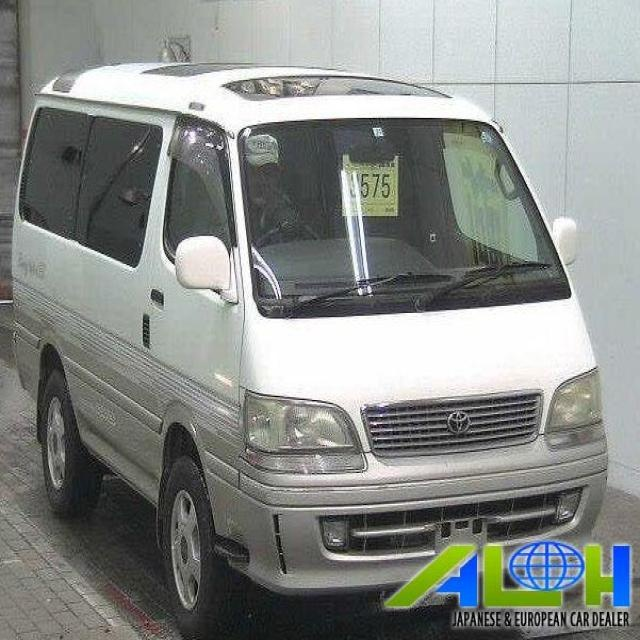Van: (9, 55, 611, 639)
